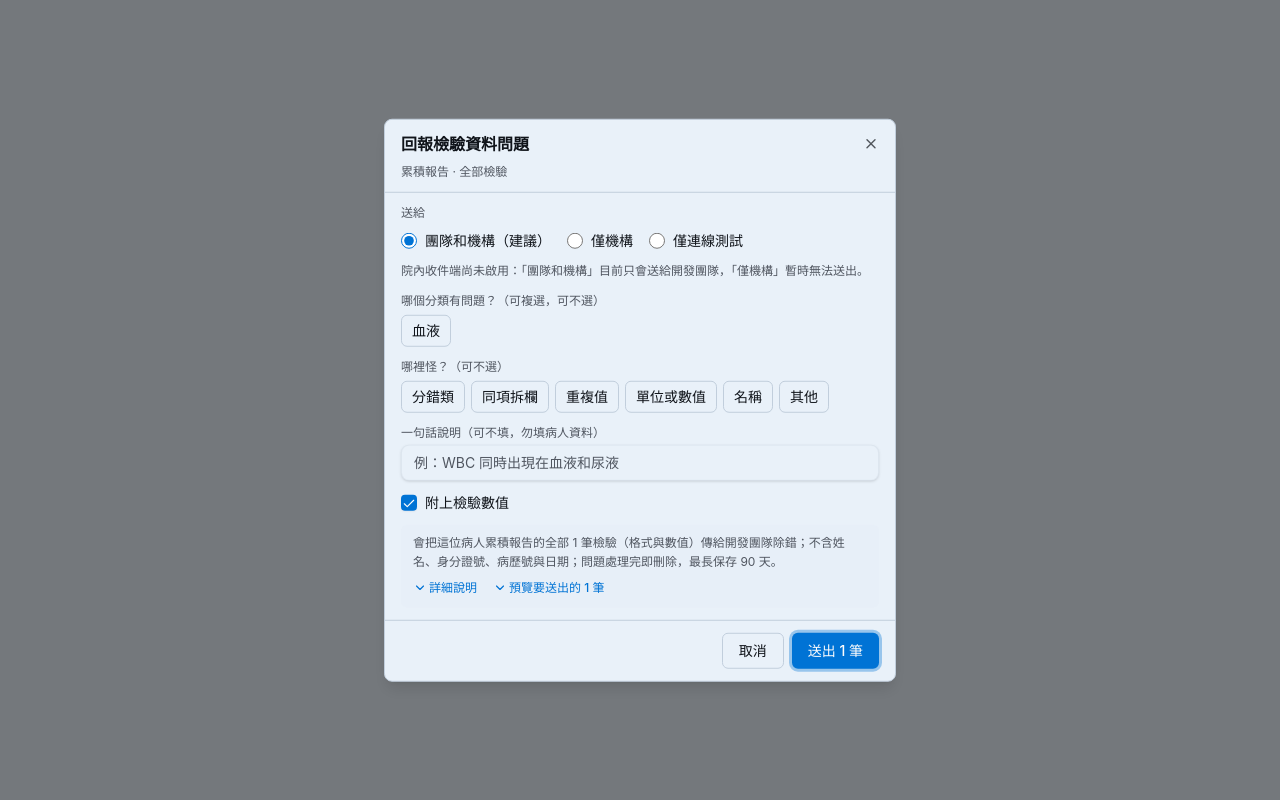
Test: LabDataReportDialog — 送給 on ?site=vghtpe › before the hospital Gateway is set up › cannot send 僅機構
The width and height of the screenshot is (1280, 800).
Click the radio button labelled "僅機構". click: (575, 241)
box: [567,233,583,249]
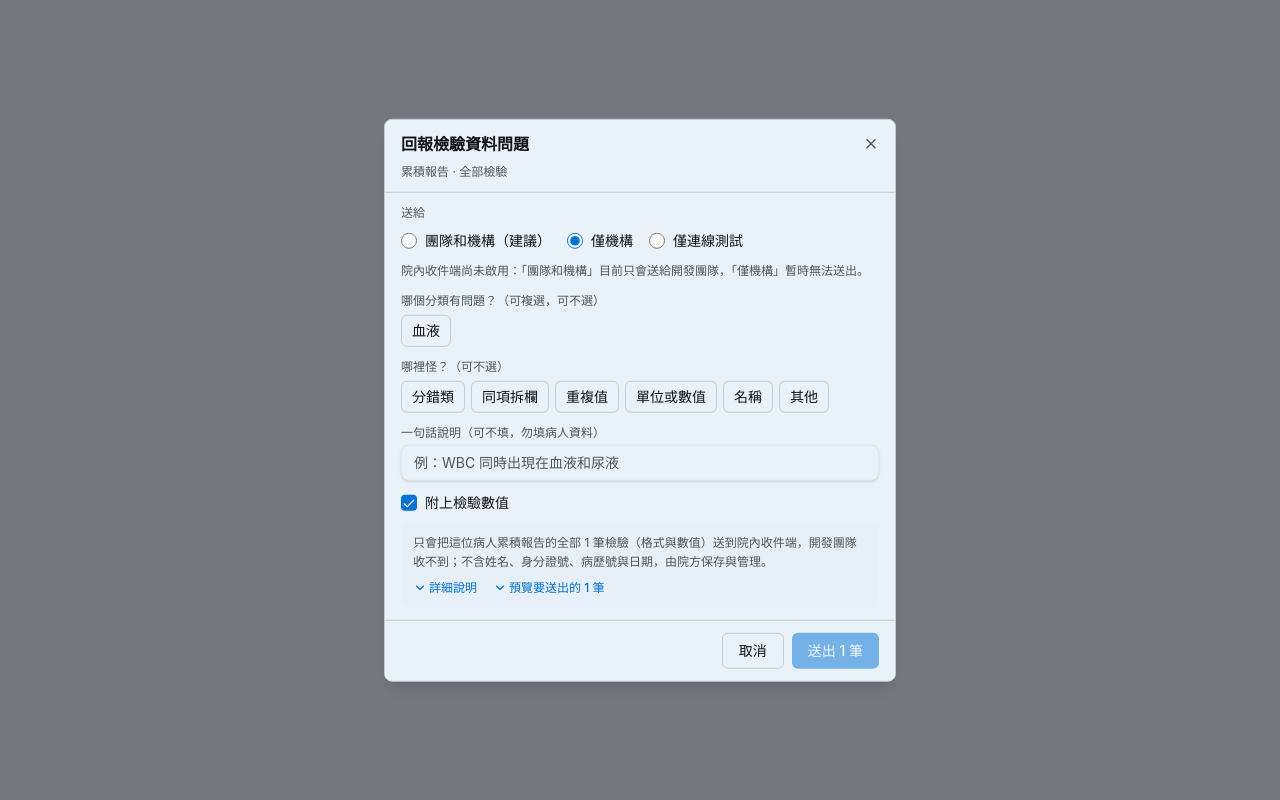
Expected: the button "送出 1 筆" is disabled, [792,632,879,668]
